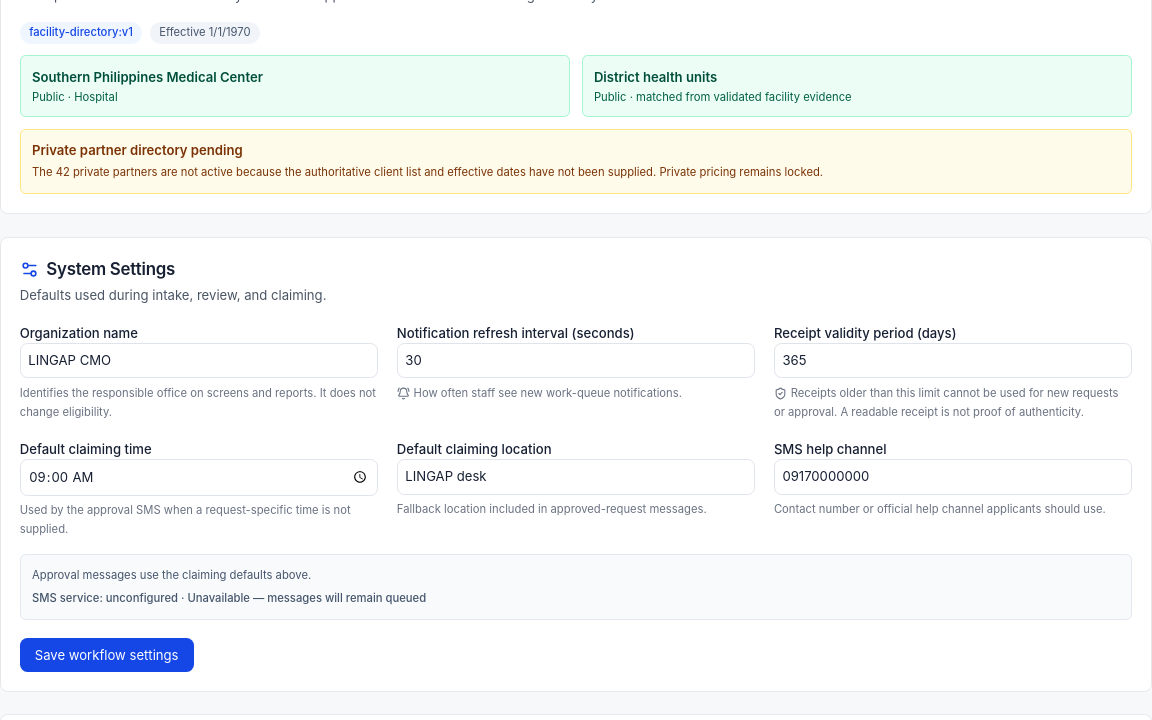
it: FacilityManagement configuration feedback › identifies missing and invalid workflow settings with an accessible alert
(page scrolled)
Step 1. Clear the field labelled "Organization name" → coordinates (199, 360), box [20,342,378,378]
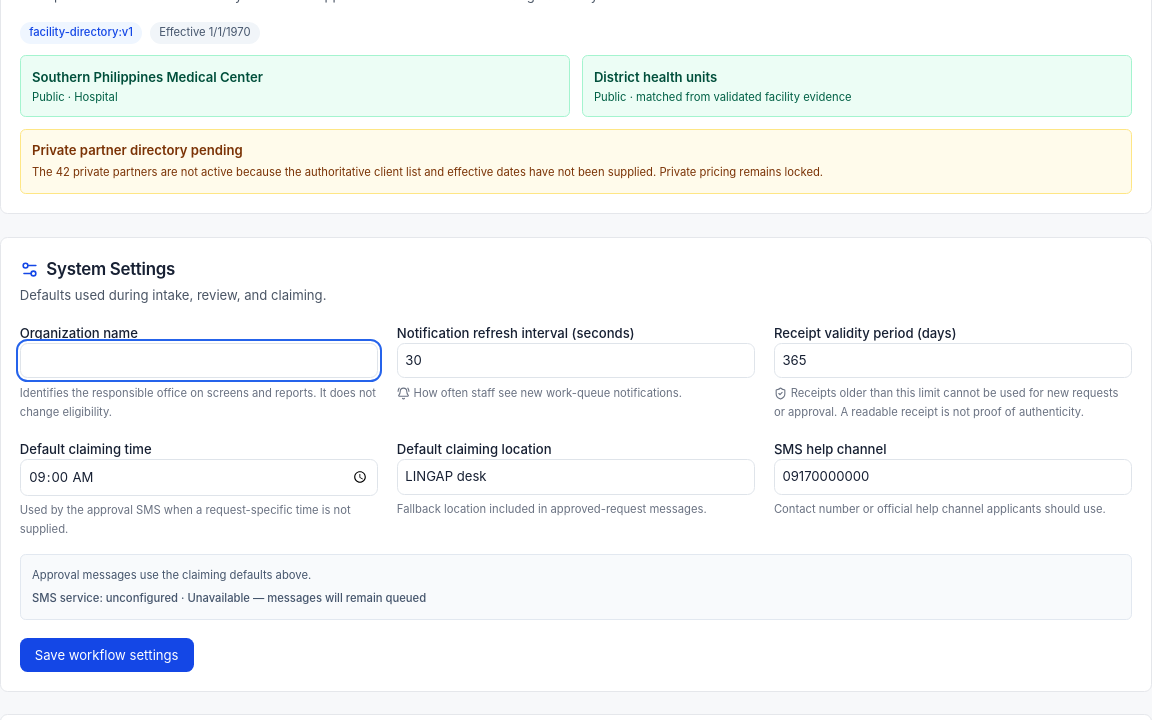
Step 2. Click the button "Save workflow settings" → coordinates (107, 655), box [20,638,194,672]
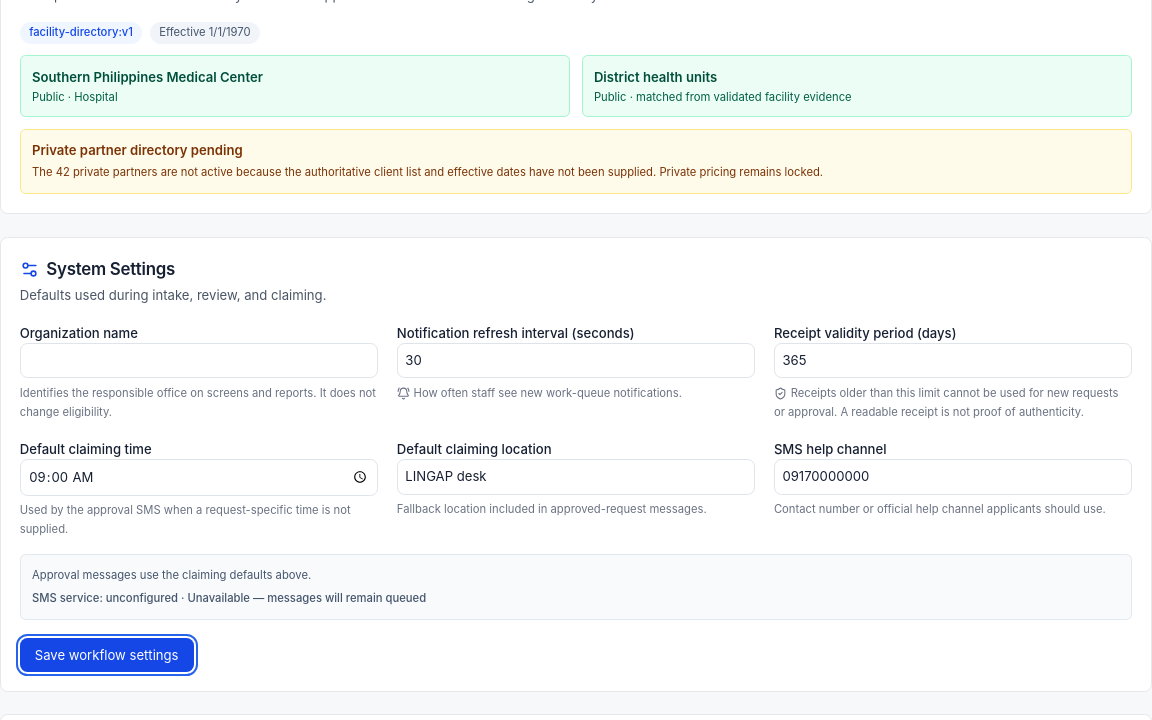
Step 3. Type "AidLink Office" into the field labelled "Organization name" → coordinates (199, 360), box [20,342,378,378]
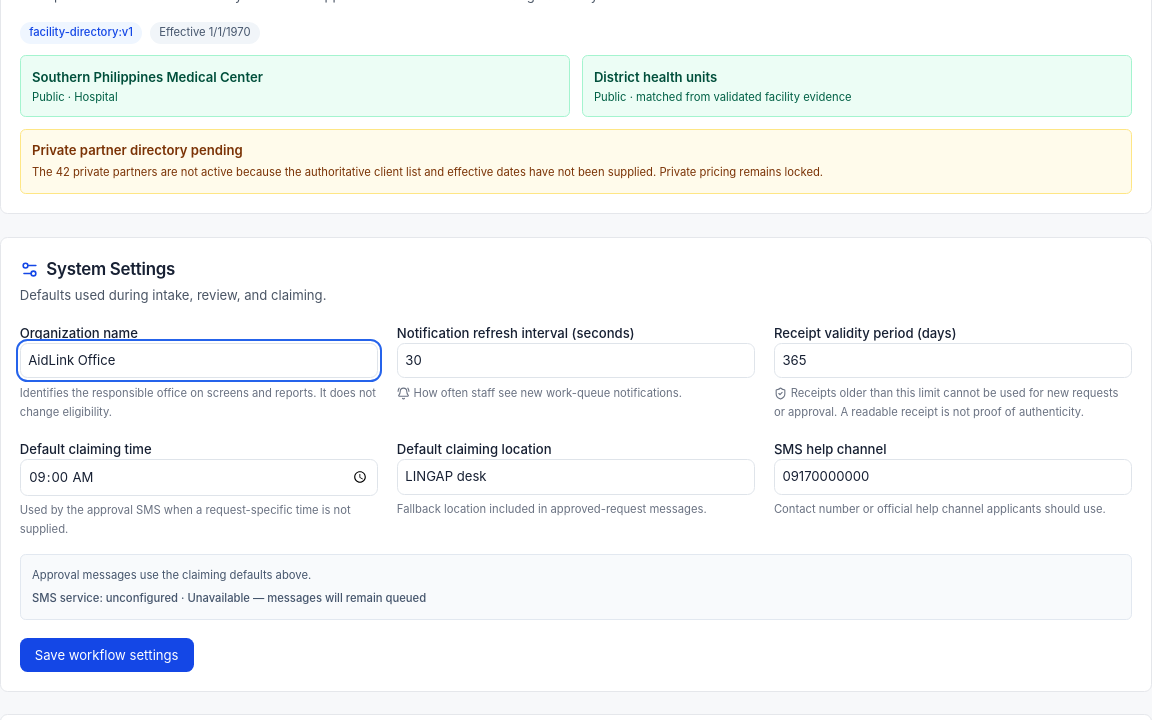
Step 4. Replace the text in the number field labelled "Notification refresh interval (seconds)" with "5" → coordinates (576, 360), box [397,342,755,378]
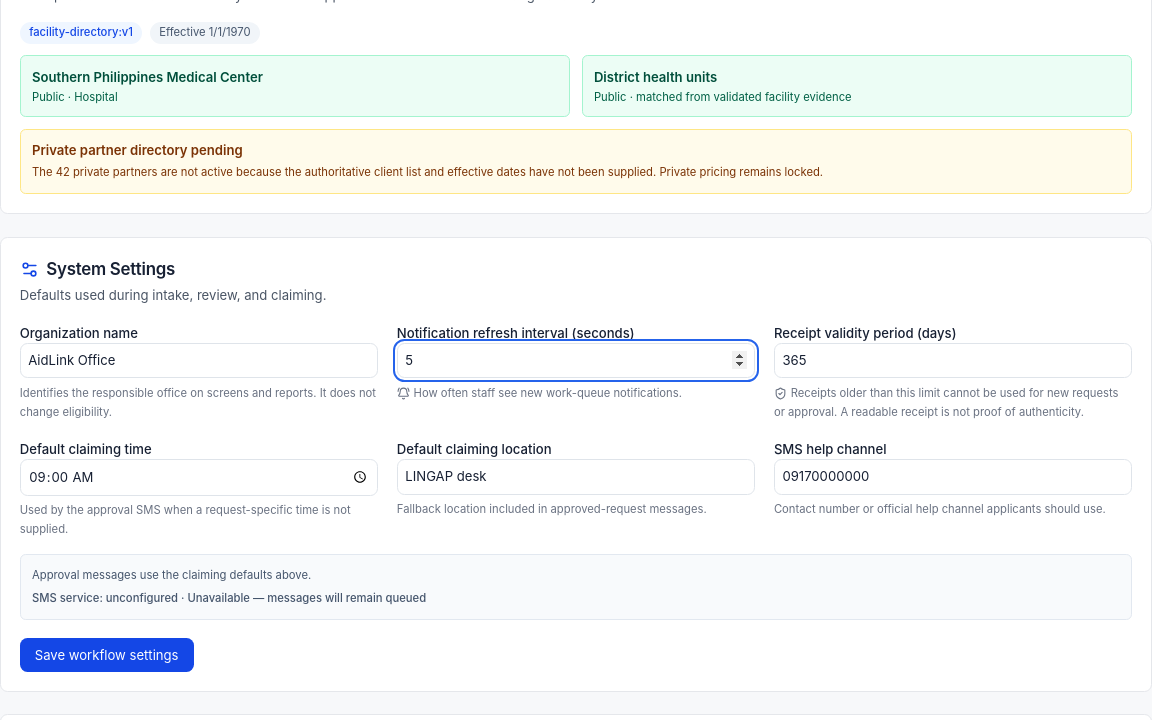
Step 5. Click the button "Save workflow settings" → coordinates (107, 655), box [20,638,194,672]
(page scrolled)
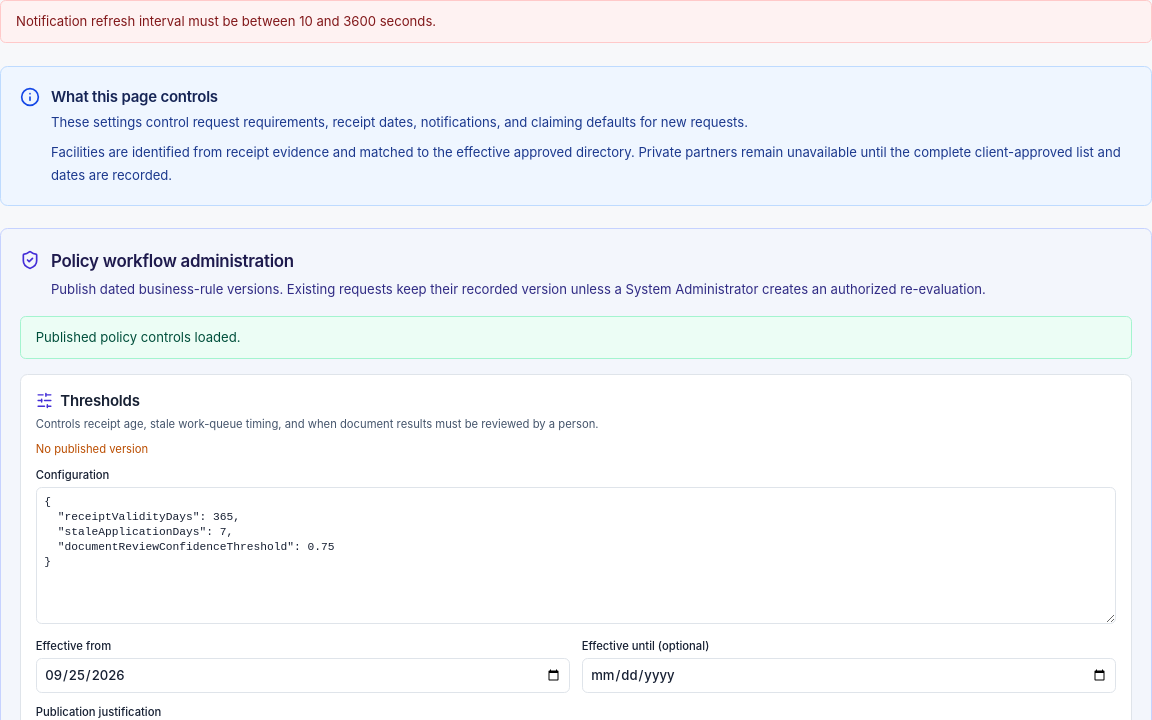
Expected: the message "Notification refresh interval must be between 10 and 3600 seconds." is shown, [0,0,1151,43]
